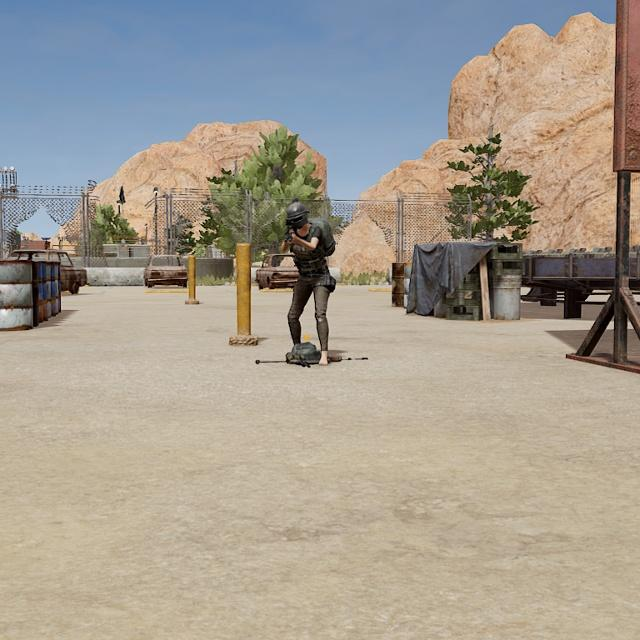head: (283, 201, 310, 230)
people: (276, 199, 336, 366)
